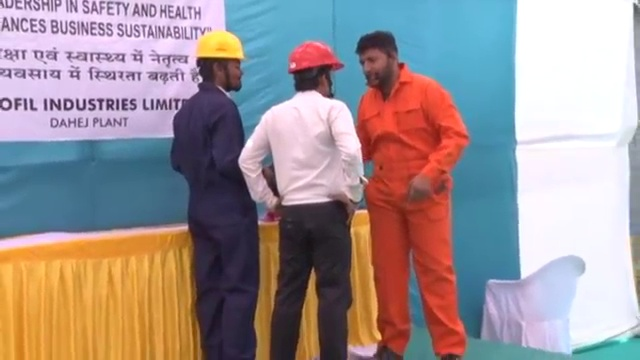helmet: (284, 37, 346, 71), (195, 29, 249, 63)
helmet_off: (354, 31, 402, 89)
helmet_on: (284, 36, 346, 101), (193, 28, 248, 95)
person: (238, 35, 366, 360), (352, 29, 468, 360), (168, 29, 266, 360)
